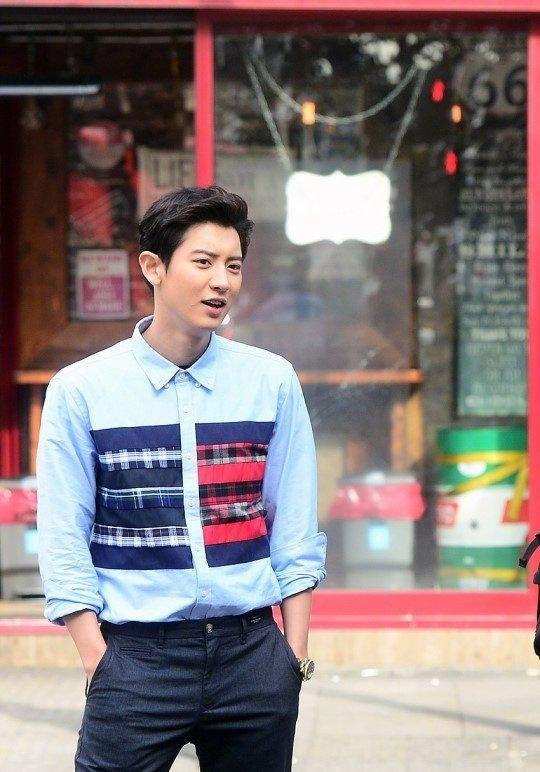other: (28, 176, 340, 764)
